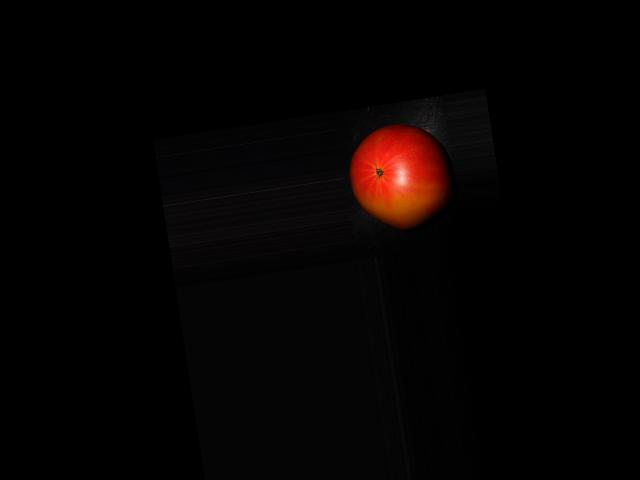tomato: (343, 117, 458, 236)
